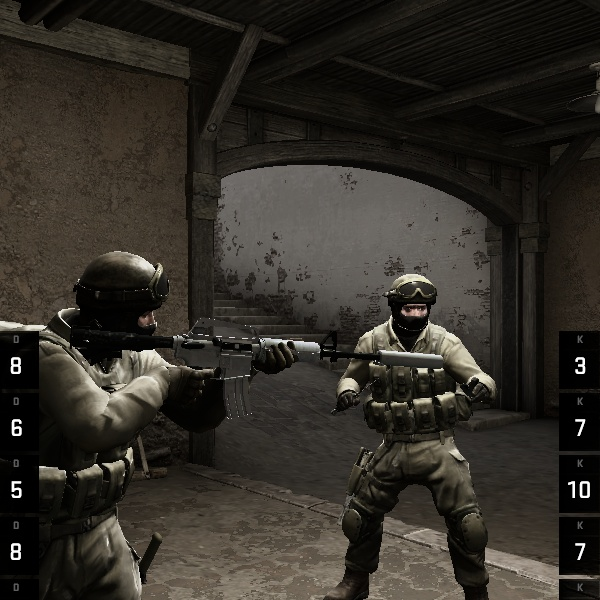ct_body: (14, 241, 235, 600), (319, 264, 516, 600)
ct_head: (61, 246, 177, 364), (374, 274, 449, 346)
